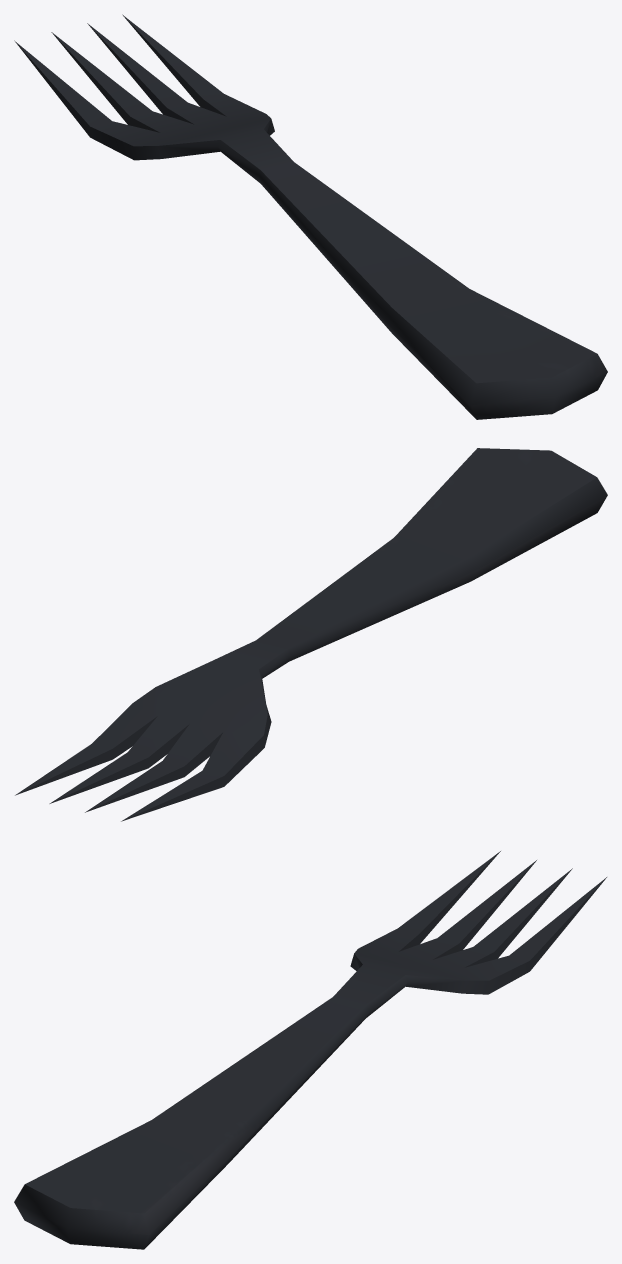
File: SM_PROP_fork_interior.fbx
The picture shows the model from 3 angles, top to bottom: view 1: azimuth 30°, elevation 25°; view 2: azimuth 150°, elevation 25°; view 3: azimuth 330°, elevation 25°; orthographic projection.
Parts seen in each view (by area): view 1: SM_PROP_fork_interior; view 2: SM_PROP_fork_interior; view 3: SM_PROP_fork_interior.
Boxes of the visible parts, x1=… form: SM_PROP_fork_interior: x1=14, y1=14, x2=607, y2=419; SM_PROP_fork_interior: x1=15, y1=448, x2=607, y2=821; SM_PROP_fork_interior: x1=14, y1=851, x2=606, y2=1249.
Size of the model in its own units: 4.26 by 1.49 by 26.21.
